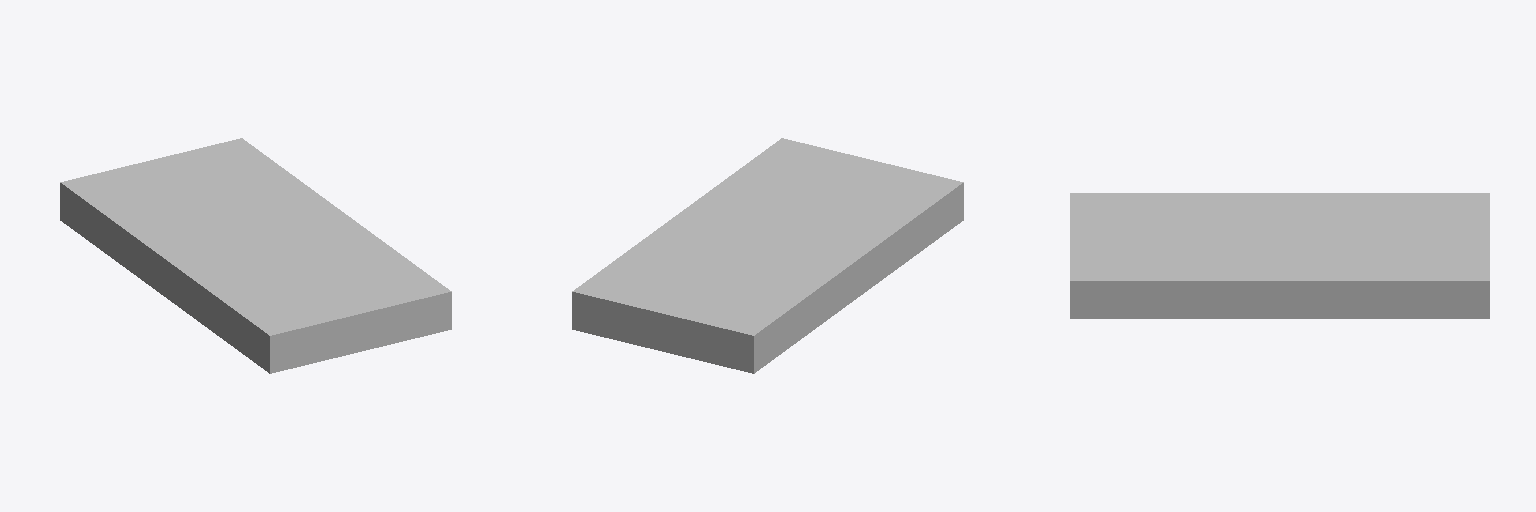
The model's file is ParkingLot6.obj.
3 renders of one model, left to right at view 1: azimuth 30°, elevation 25°; view 2: azimuth 150°, elevation 25°; view 3: azimuth 270°, elevation 25°, orthographic.
Visible parts, largest first — view 1: PLATFORM1; view 2: PLATFORM1; view 3: PLATFORM1.
Part boxes in pixels (left/top/right/bottom): PLATFORM1: left=60, top=138, right=451, bottom=373; PLATFORM1: left=572, top=138, right=963, bottom=373; PLATFORM1: left=1070, top=193, right=1489, bottom=318.
Bounding box in the file's own units: 5 × 1 × 10.